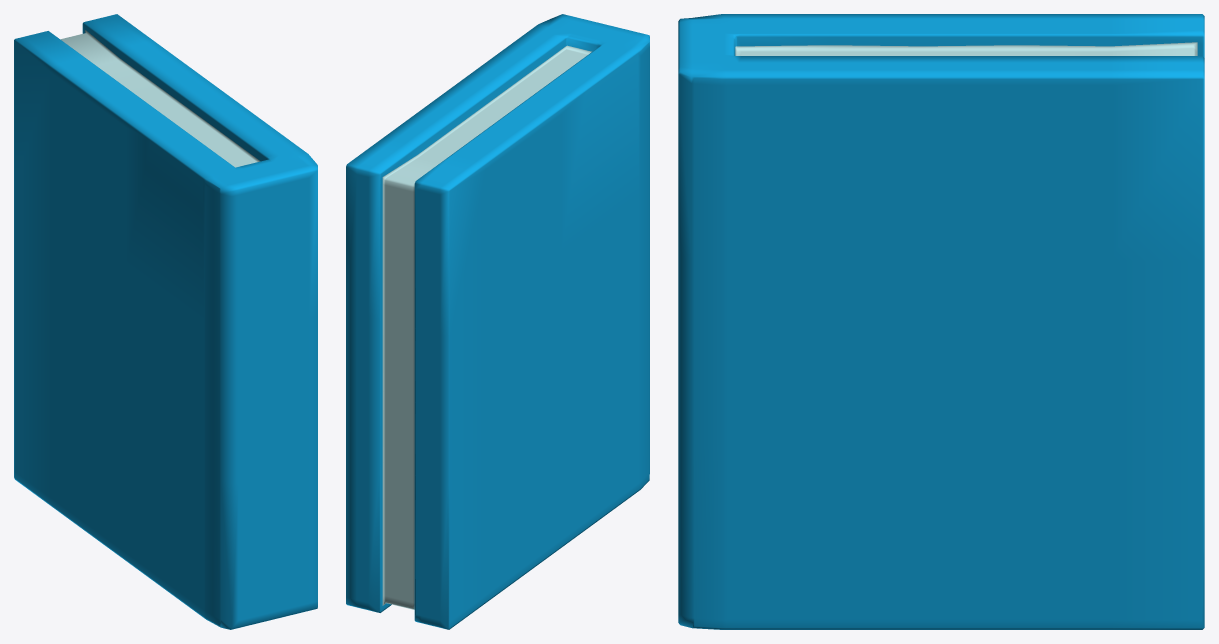
Rendered from SM_Book_Blue.fbx.
The picture shows the model from 3 angles, left to right: view 1: azimuth 30°, elevation 25°; view 2: azimuth 150°, elevation 25°; view 3: azimuth 270°, elevation 25°; orthographic projection. The views are drawn at different scales.
Parts seen in each view (by area): view 1: SM_Book_Blue; view 2: SM_Book_Blue; view 3: SM_Book_Blue.
Part boxes in pixels (left/top/right/bottom): SM_Book_Blue: left=14, top=14, right=317, bottom=629; SM_Book_Blue: left=346, top=14, right=649, bottom=629; SM_Book_Blue: left=678, top=14, right=1204, bottom=629.
Size of the model in its own units: 48.99 by 200 by 173.
